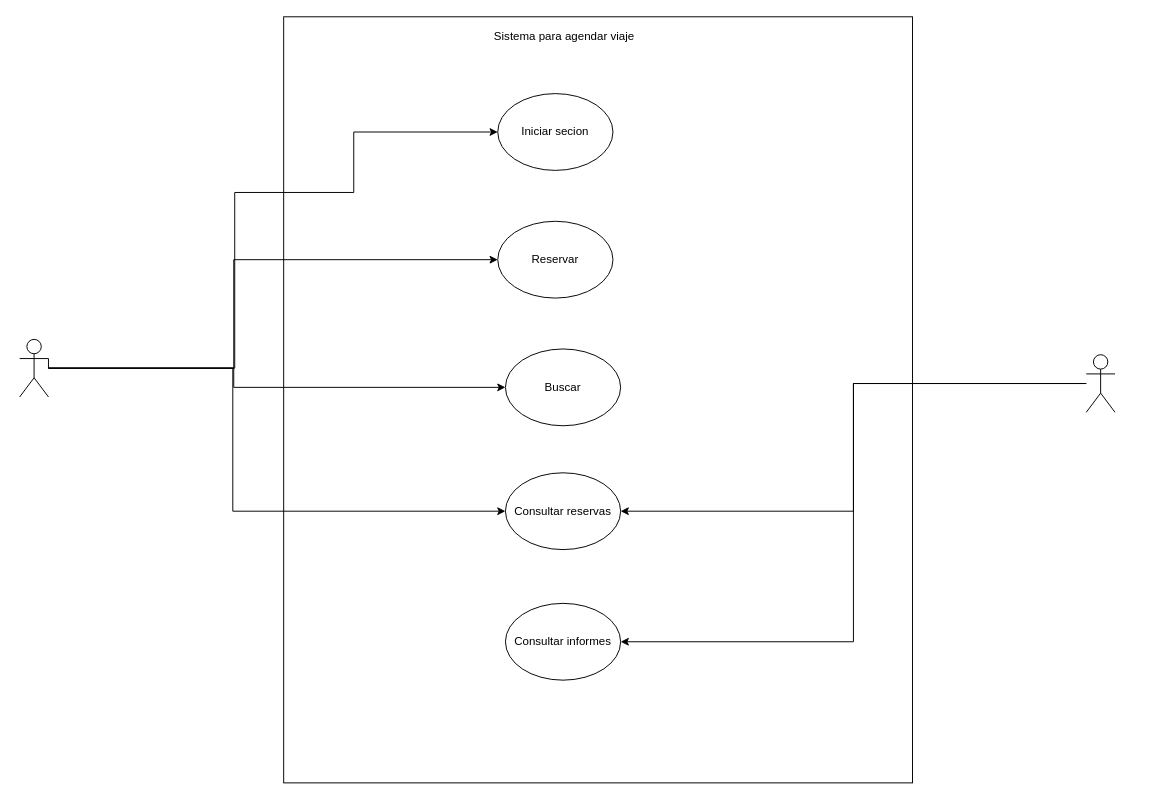
This 1153x800 diagram has some shape labels left out. The centre of each missing label's shape, as x and y in pixels:
Administrador: the point at 1100,383
Cliente: the point at 33,367
